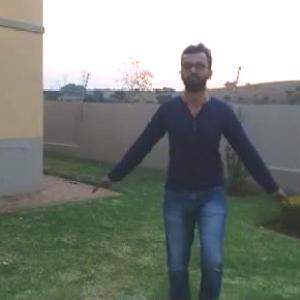land: (109, 47, 288, 278)
